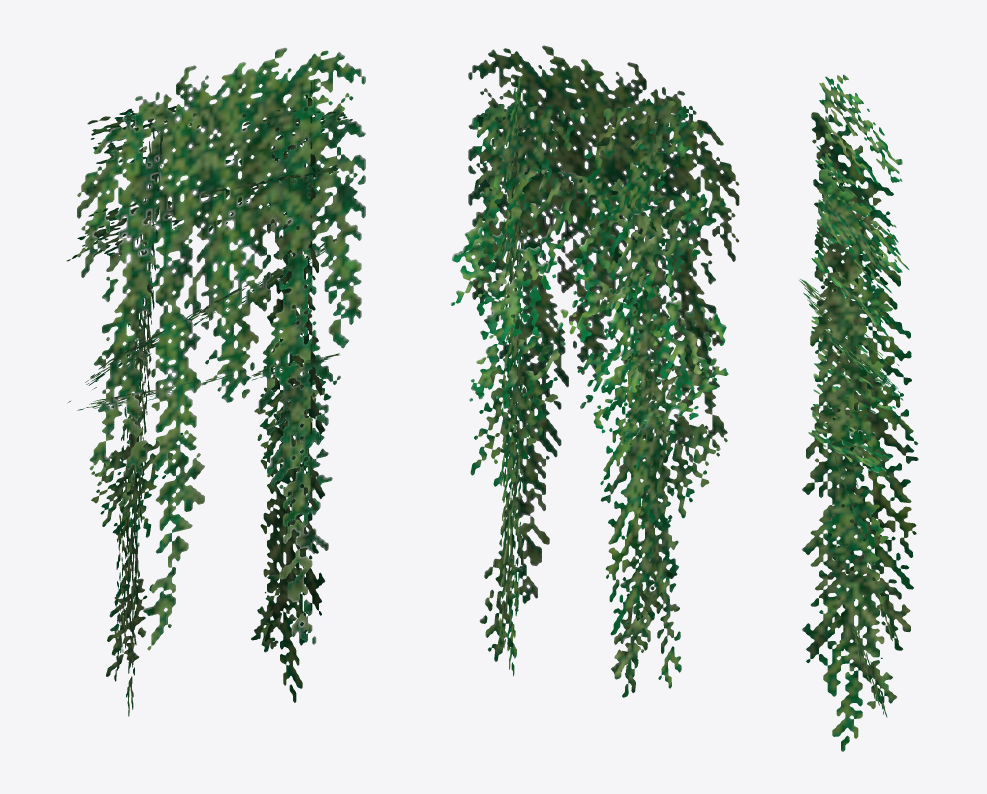
Rendered from hangingbush.obj.
3 views of the same model, side by side, from view 1: azimuth 30°, elevation 25°; view 2: azimuth 150°, elevation 25°; view 3: azimuth 270°, elevation 25° (orthographic). The views are drawn at different scales.
Parts seen in each view (by area): view 1: cube; view 2: cube; view 3: cube.
Boxes of the visible parts, x1,y1,x2,y2 form: cube: [66, 47, 365, 716]; cube: [450, 45, 739, 697]; cube: [799, 74, 918, 751].
Bounding box in the file's own units: 1.18 × 2.57 × 0.6576.
